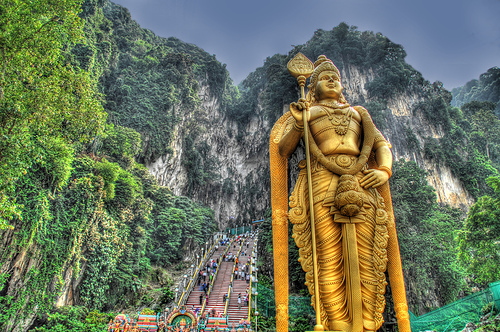Hindu Temple: (255, 45, 407, 327)
